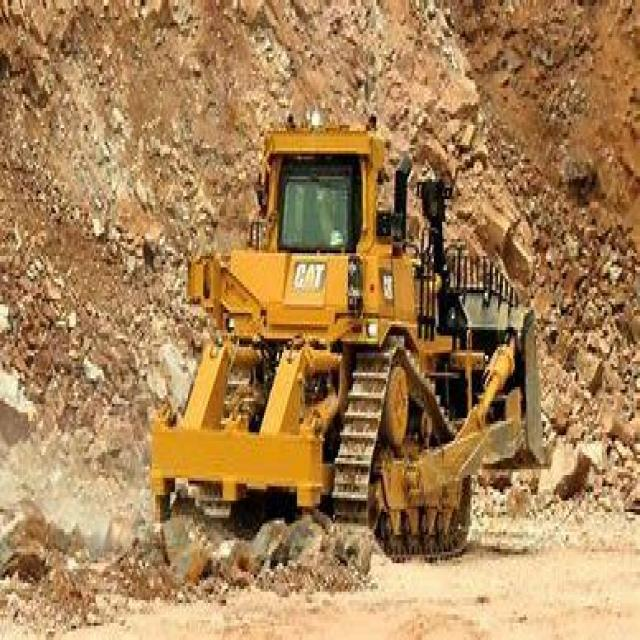Bulldozer: (143, 94, 556, 569)
